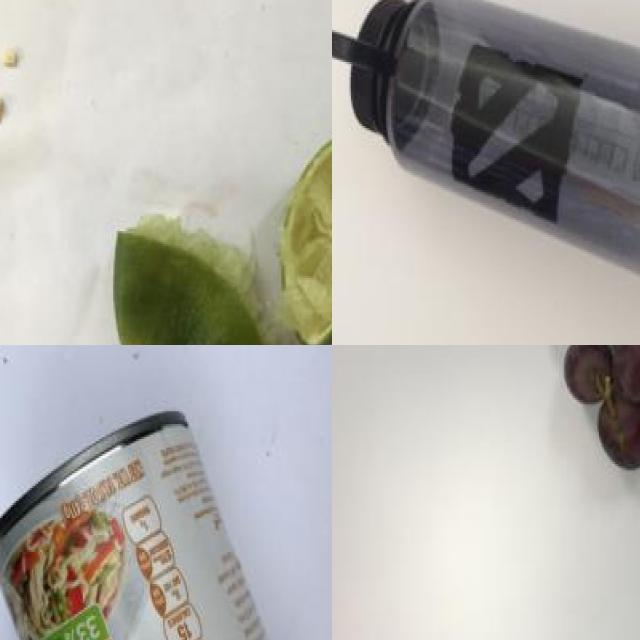compost: (89, 115, 332, 345), (551, 345, 640, 484)
plastic: (332, 0, 640, 284), (0, 402, 332, 640)
